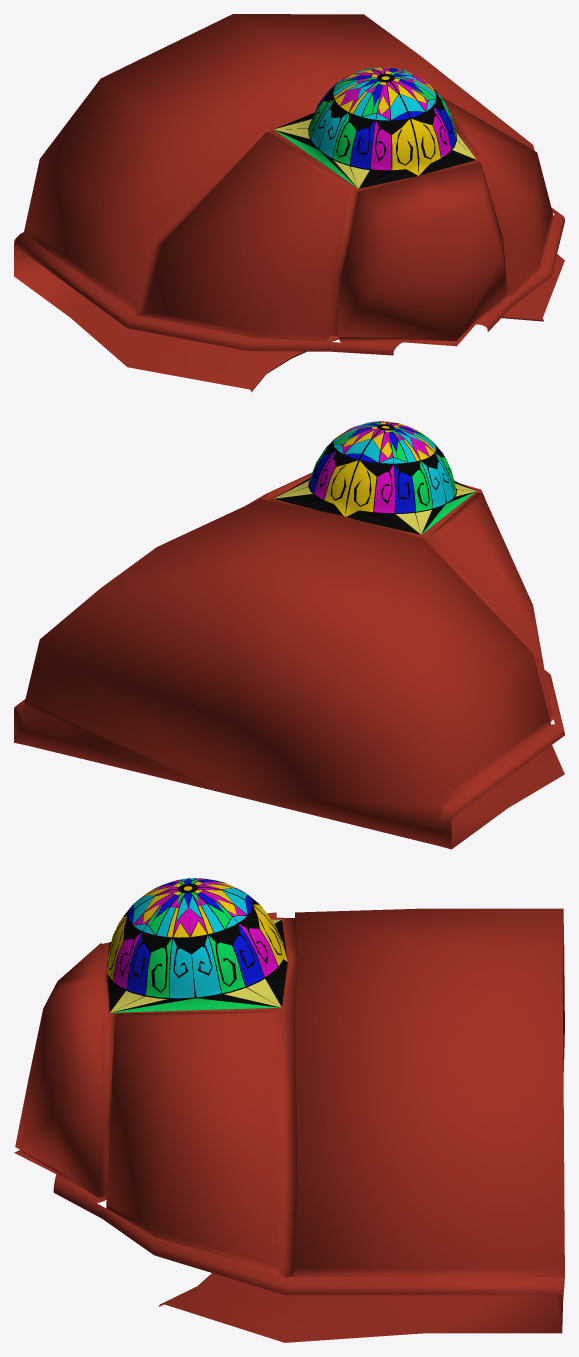
File: roof4.fbx
3 views of the same model, one above another, from view 1: azimuth 30°, elevation 25°; view 2: azimuth 150°, elevation 25°; view 3: azimuth 270°, elevation 25° (orthographic). The views are drawn at different scales.
Visible parts, largest first — view 1: 円柱.004; view 2: 円柱.004; view 3: 円柱.004.
Part boxes in pixels (<box>): 円柱.004: <box>14,14,564,392</box>; 円柱.004: <box>14,421,564,849</box>; 円柱.004: <box>14,878,564,1342</box>.
Size of the model in its own units: 4796 by 2856 by 4275.
